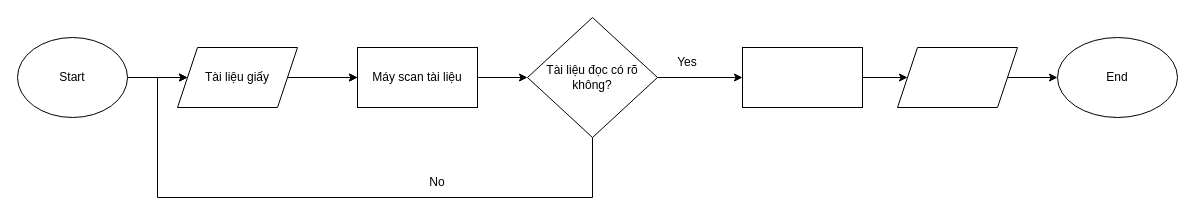
Some shapes in this 1195 by 223 pixel diagram are drawn without their labels. Each missing label, with the centre of its shape:
"Thuật toán OCR" belongs at point (802, 77).
"Tài liệu số" belongs at point (957, 77).
